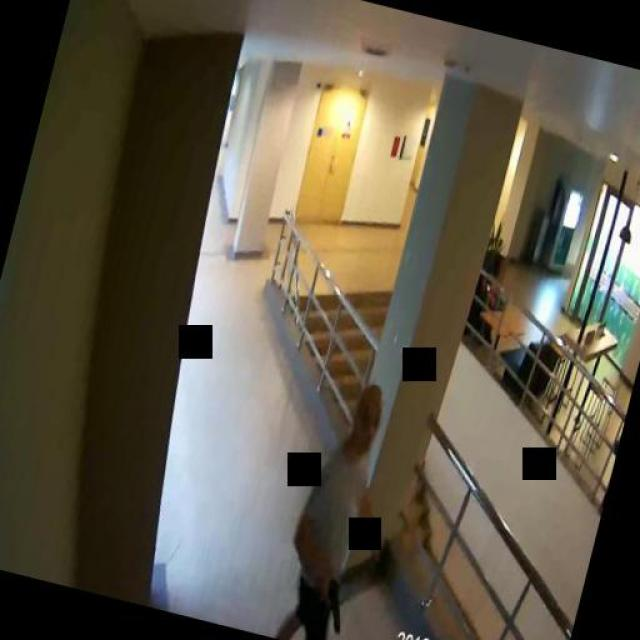gun: (312, 571, 352, 634)
